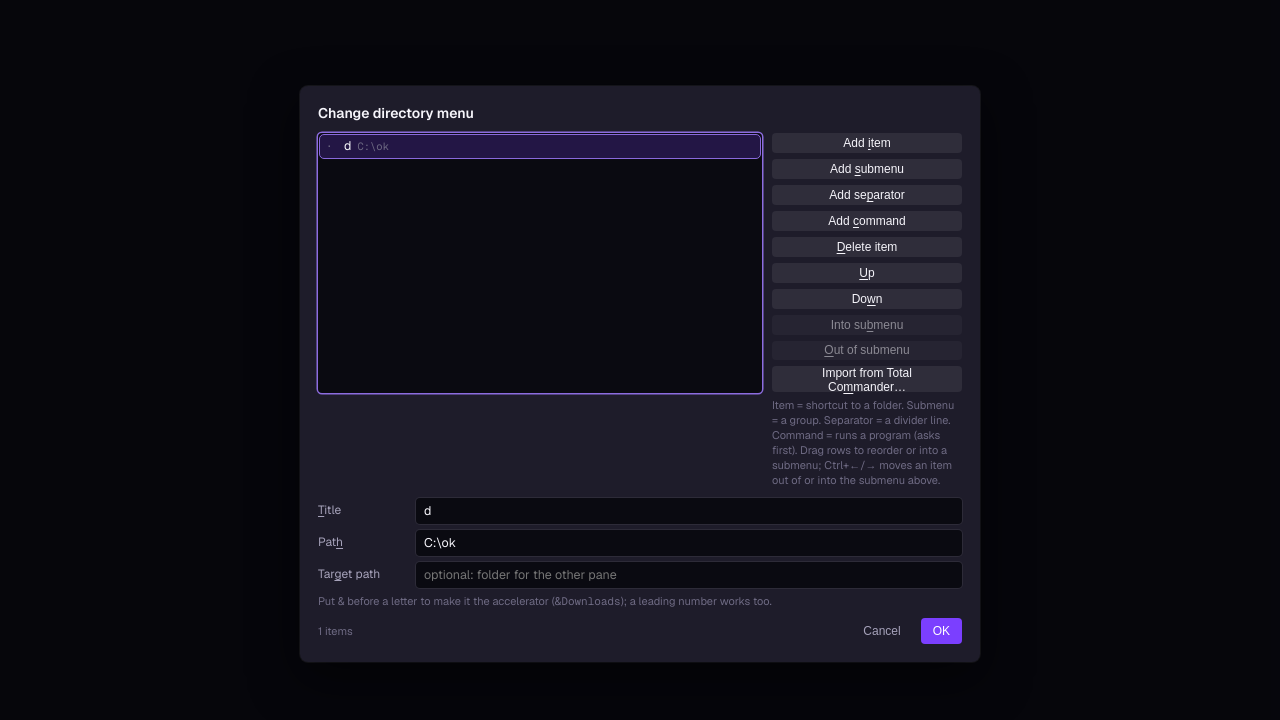
Test: Configure refuses device folders (FER-467 H1) › explains and blocks OK for \\.\UNC\evil\share
This screenshot has width=1280, height=720.
Expected: the dialog named "Configure Directory Hotlist" is shown, [300,86,980,662]
Step 1. Replace the text in the field labelled "Path" with "\\\\.\\UNC\\evil\\share" → (689, 542), box [416,530,962,556]
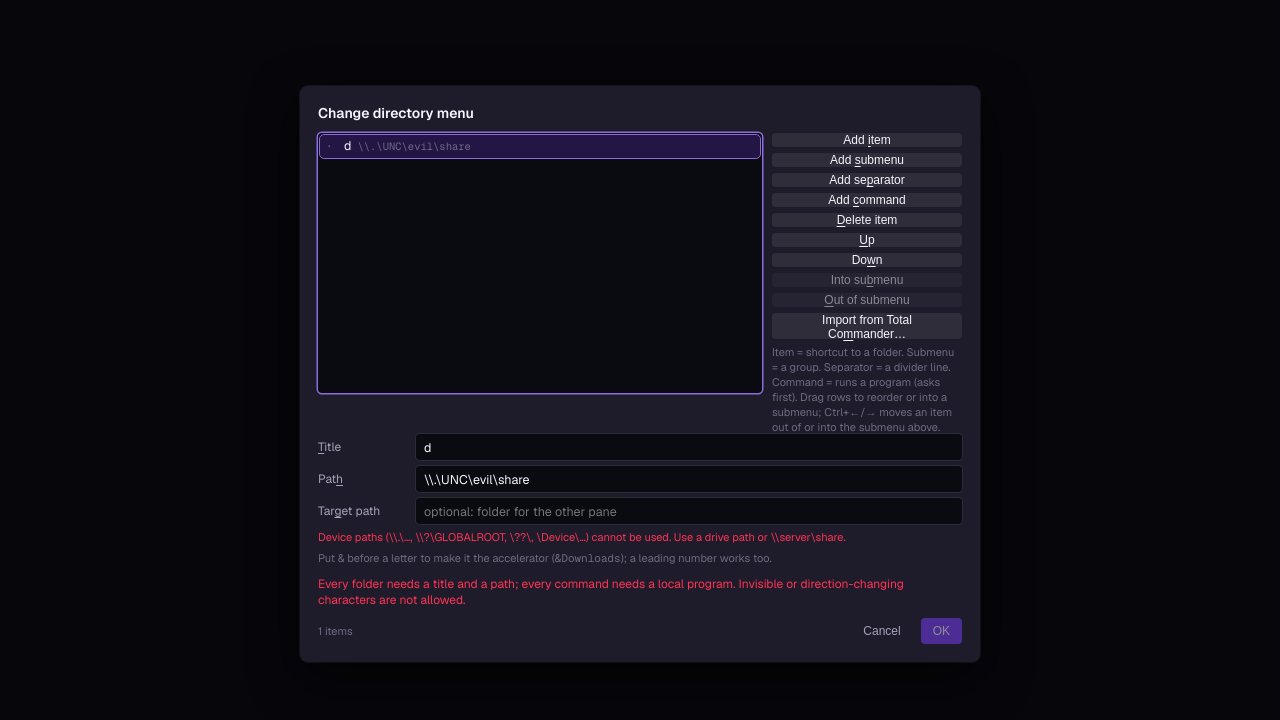
Expected: the message with test id "path-problem" shows "Device paths", [318,530,846,544]
Expected: the button "OK" is disabled, [921,618,962,644]
Step 2. Replace the text in the field labelled "Path" with "C:\\fine" → (689, 479), box [416,466,962,492]
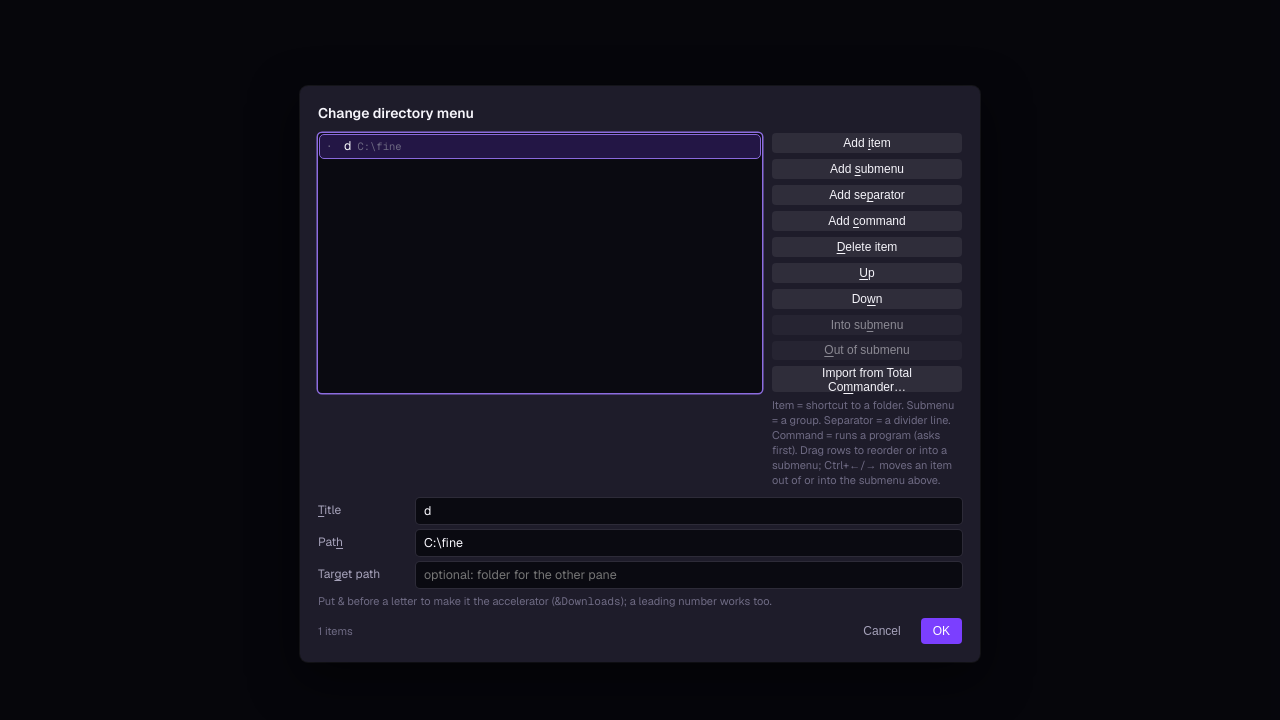
Expected: the message with test id "path-problem" is gone
